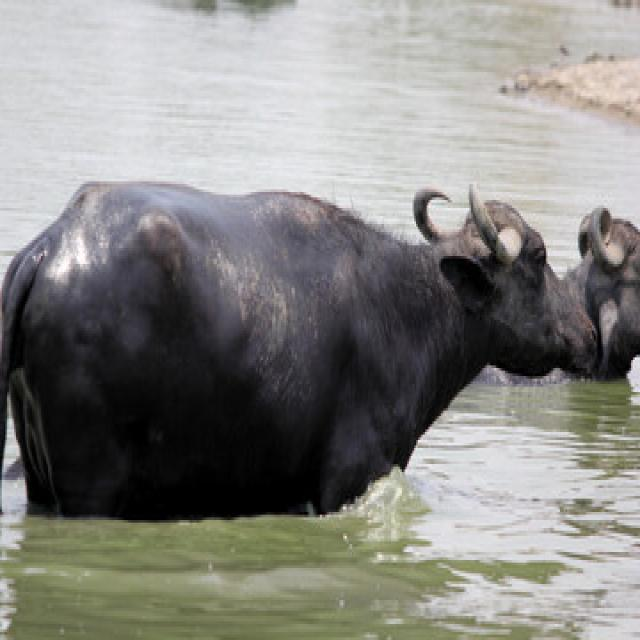Buffalo: (1, 182, 604, 519)
